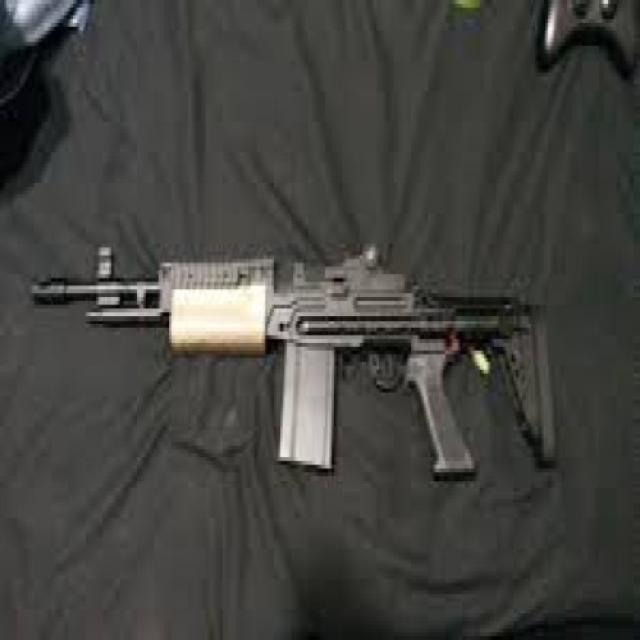Gun: (46, 245, 585, 504)
